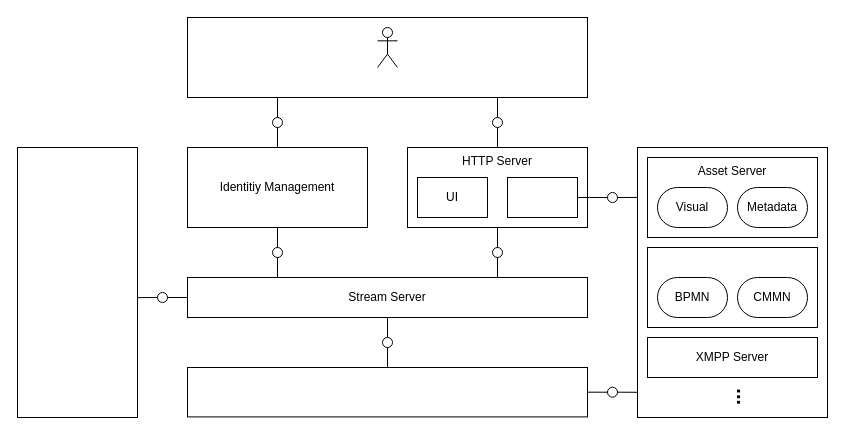
The diagram is 845 pixels wide and 435 high, and some of its shapes have lost their labels. The shapes that lost their labels are listed below. From the top down, each one's box as (x1, y1, x2, y2) in pixels, then its label:
(376, 26, 398, 68): User
(506, 176, 578, 218): Proxy
(16, 146, 138, 418): ERP
(646, 246, 818, 328): Workflow Engine
(186, 366, 588, 417): NoSQL DB
